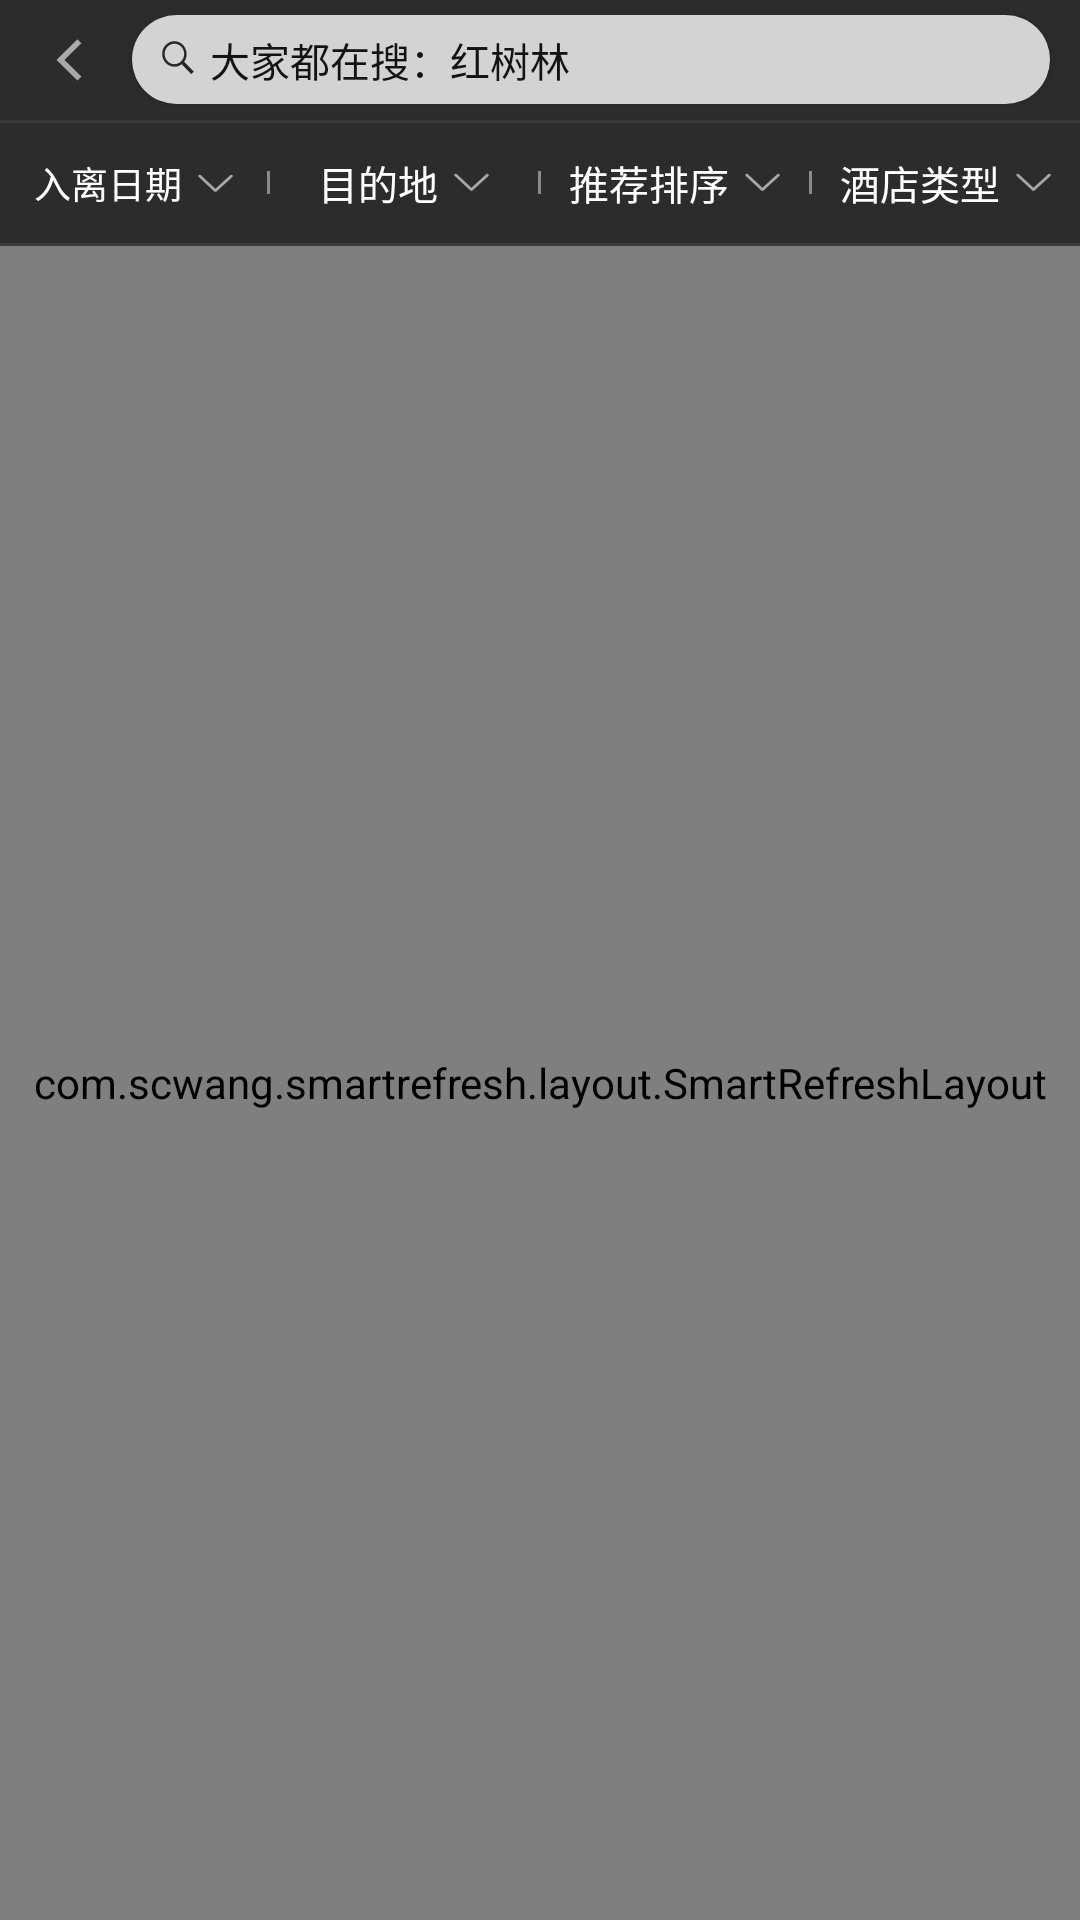

Where to tap for icons on this 1080×1920 app screen, as [x,y]:
back: [69,60]
